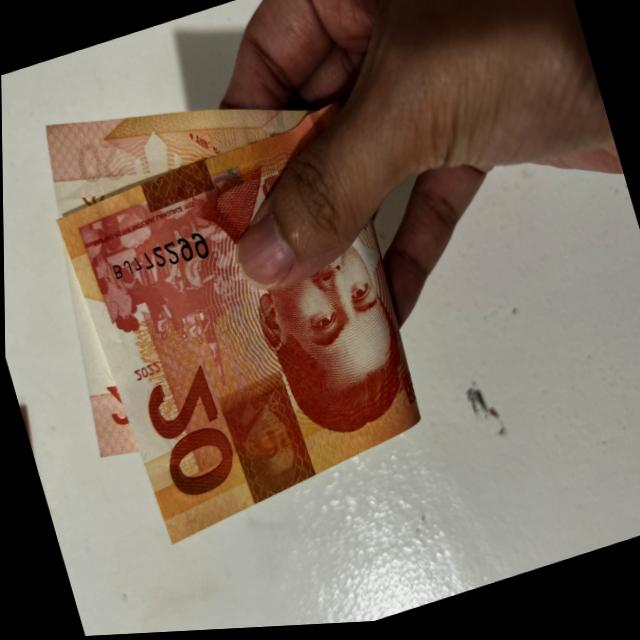concealed_value: (214, 376, 318, 503)
serial_number: (100, 223, 218, 295)
value: (132, 370, 248, 513)
